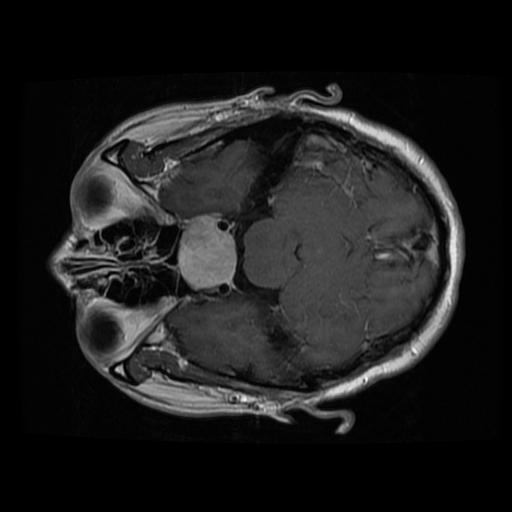pituitary tumour: (176, 215, 238, 289)
